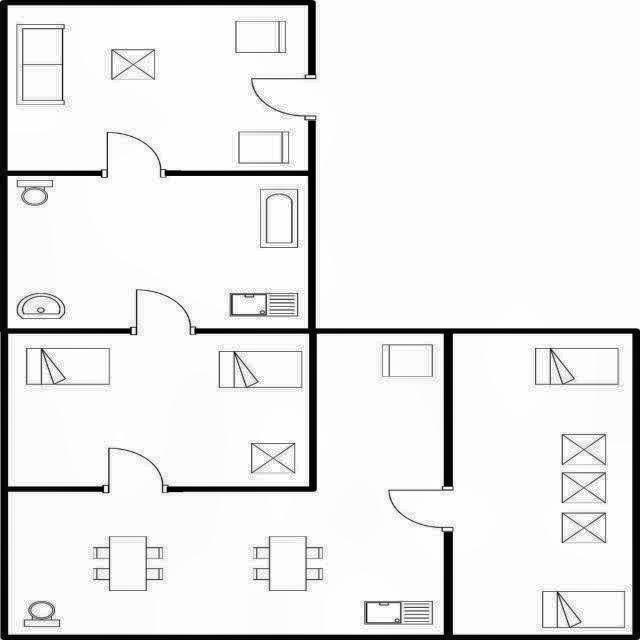room: (8, 334, 444, 635), (453, 334, 632, 635), (8, 5, 308, 171), (8, 334, 309, 486), (8, 176, 308, 328)
